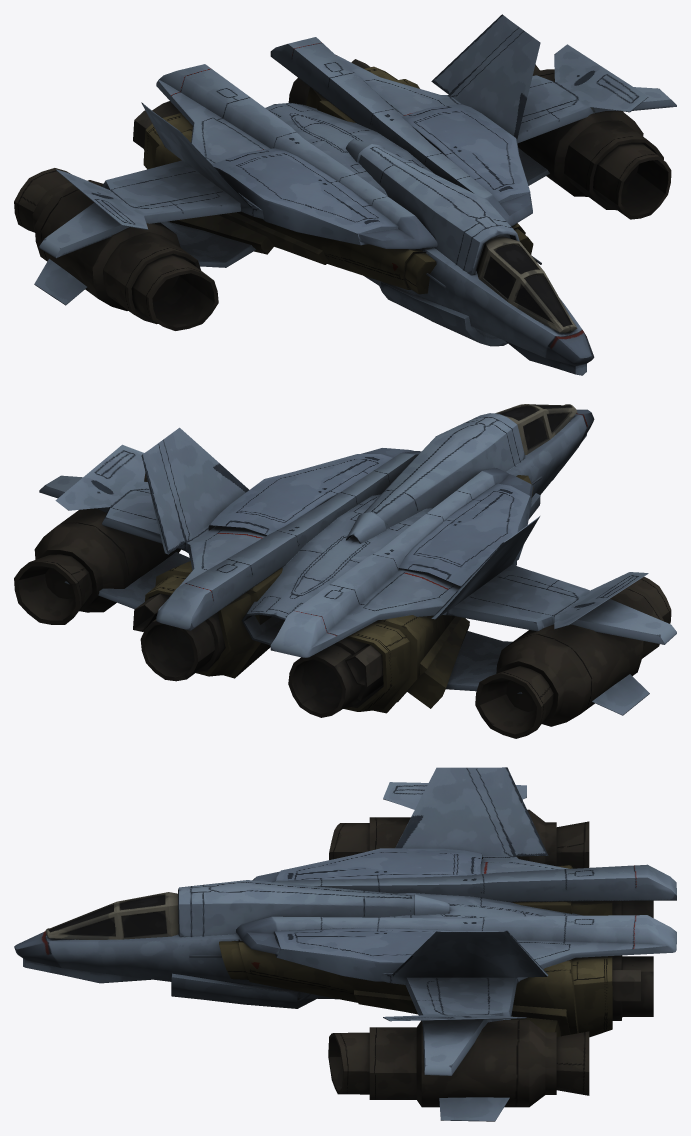
The model's file is PlayerAirPlane.obj.
3 views of the same model, one above another, from view 1: azimuth 30°, elevation 25°; view 2: azimuth 150°, elevation 25°; view 3: azimuth 270°, elevation 25° (orthographic). The views are drawn at different scales.
Visible parts, largest first — view 1: Plane005; view 2: Plane005; view 3: Plane005.
Boxes of the visible parts, left/top/right/bottom form: Plane005: left=14, top=14, right=676, bottom=375; Plane005: left=14, top=404, right=676, bottom=738; Plane005: left=14, top=767, right=676, bottom=1121.
Size of the model in its own units: 122 by 30.66 by 121.
Materials: 1 (1 with a texture image).
